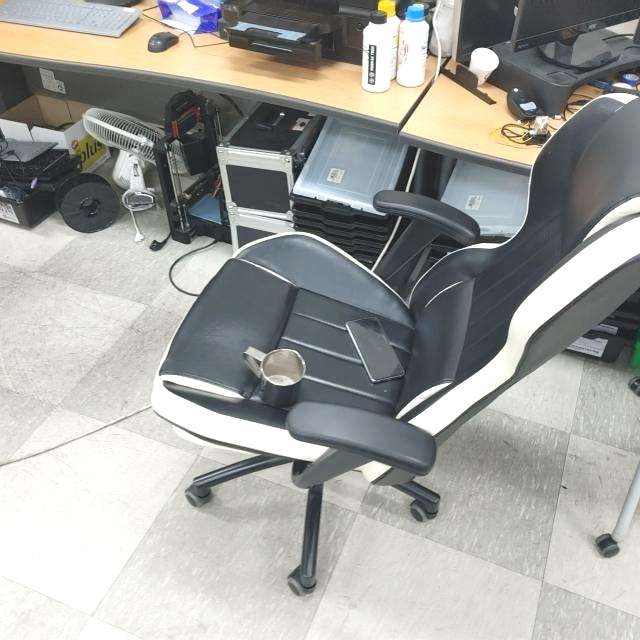cup: (242, 343, 306, 408)
phone: (342, 315, 408, 385)
